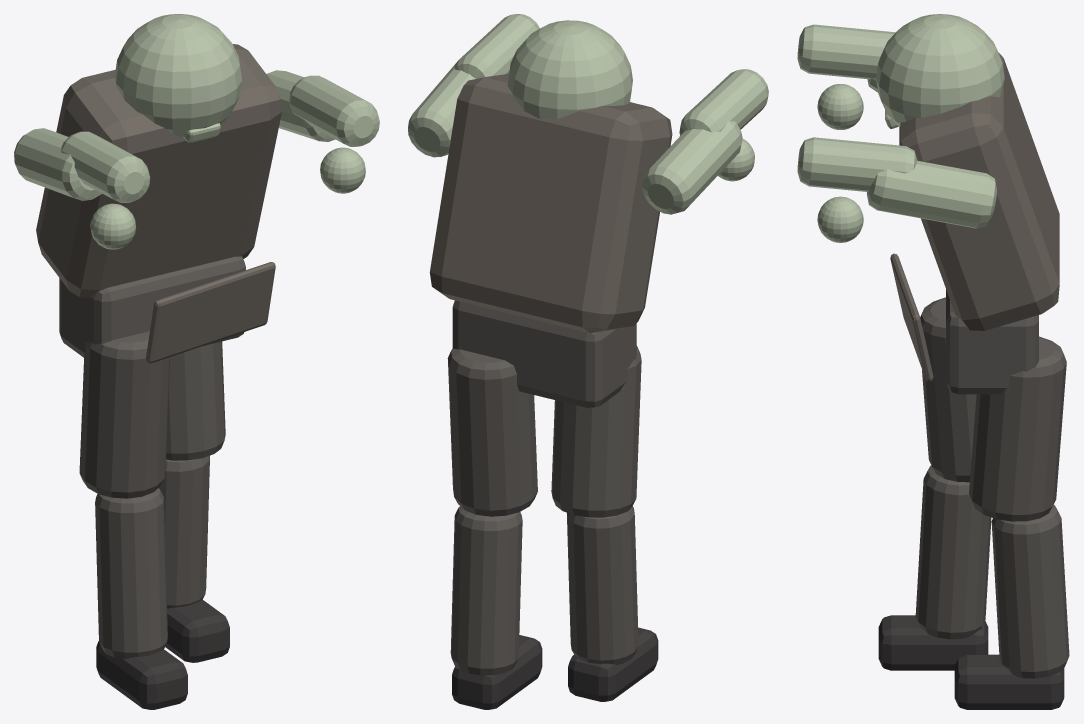
Rendered from zombie_brute.glb.
The picture shows the model from 3 angles, left to right: view 1: azimuth 30°, elevation 25°; view 2: azimuth 150°, elevation 25°; view 3: azimuth 270°, elevation 25°; orthographic projection. The views are drawn at different scales.
Visible parts, largest first — view 1: torso, thigh-1, head, shin-1, flap, pelvis, shin1, thigh1, fa1, boot-1, fa-1, ua-1 (+4 smaller); view 2: torso, thigh1, pelvis, shin1, thigh-1, shin-1, head, ua-1, fa-1, boot-1, boot1, ua1 (+2 smaller); view 3: torso, thigh1, shin1, head, shin-1, ua1, pelvis, thigh-1, fa1, boot1, boot-1, fa-1 (+3 smaller).
Boxes of the visible parts, left/top/right/bottom form: torso: left=36, top=44, right=281, bottom=298; thigh-1: left=79, top=331, right=170, bottom=498; head: left=115, top=14, right=241, bottom=137; shin-1: left=95, top=488, right=167, bottom=658; flap: left=146, top=262, right=275, bottom=363; pelvis: left=59, top=256, right=245, bottom=357; shin1: left=159, top=455, right=209, bottom=608; thigh1: left=166, top=341, right=225, bottom=460; fa1: left=289, top=75, right=379, bottom=146; boot-1: left=96, top=641, right=187, bottom=709; fa-1: left=61, top=131, right=150, bottom=202; ua-1: left=14, top=128, right=102, bottom=200; torso: left=429, top=73, right=672, bottom=333; thigh1: left=447, top=348, right=537, bottom=516; pelvis: left=452, top=300, right=636, bottom=407; shin1: left=450, top=506, right=522, bottom=675; thigh-1: left=551, top=346, right=641, bottom=517; shin-1: left=567, top=506, right=638, bottom=664; head: left=507, top=20, right=632, bottom=119; ua-1: left=642, top=121, right=742, bottom=214; fa-1: left=679, top=69, right=768, bottom=135; boot-1: left=568, top=627, right=658, bottom=701; boot1: left=452, top=635, right=542, bottom=709; ua1: left=408, top=61, right=475, bottom=157; torso: left=899, top=52, right=1059, bottom=330; thigh1: left=969, top=336, right=1066, bottom=521; shin1: left=991, top=505, right=1069, bottom=678; head: left=876, top=14, right=1004, bottom=126; shin-1: left=915, top=465, right=991, bottom=639; ua1: left=867, top=160, right=996, bottom=228; pelvis: left=946, top=289, right=1038, bottom=394; thigh-1: left=920, top=297, right=976, bottom=482; fa1: left=797, top=137, right=917, bottom=191; boot1: left=954, top=654, right=1064, bottom=709; boot-1: left=878, top=615, right=988, bottom=670; fa-1: left=797, top=24, right=895, bottom=79.
Size of the model in its own units: 0.9729 by 2.12 by 0.7862.
